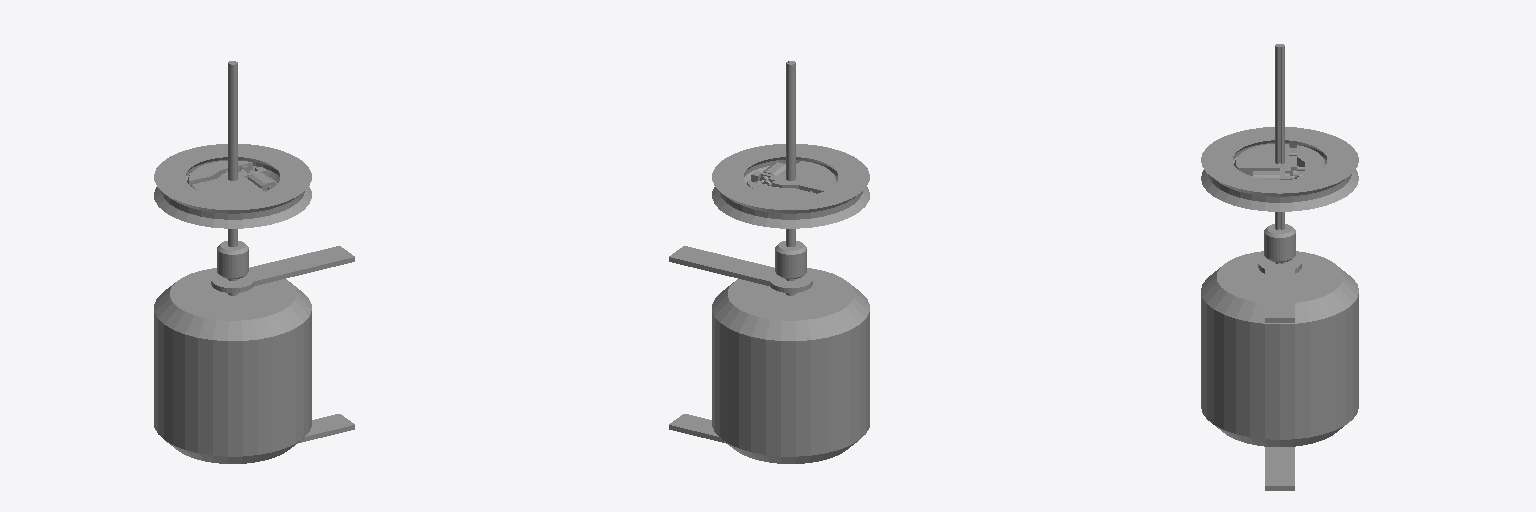
The model's file is cncPulley.obj.
3 views of the same model, side by side, from view 1: azimuth 30°, elevation 25°; view 2: azimuth 150°, elevation 25°; view 3: azimuth 270°, elevation 25° (orthographic).
Size of the model in its own units: 2.67 by 5.55 by 2.